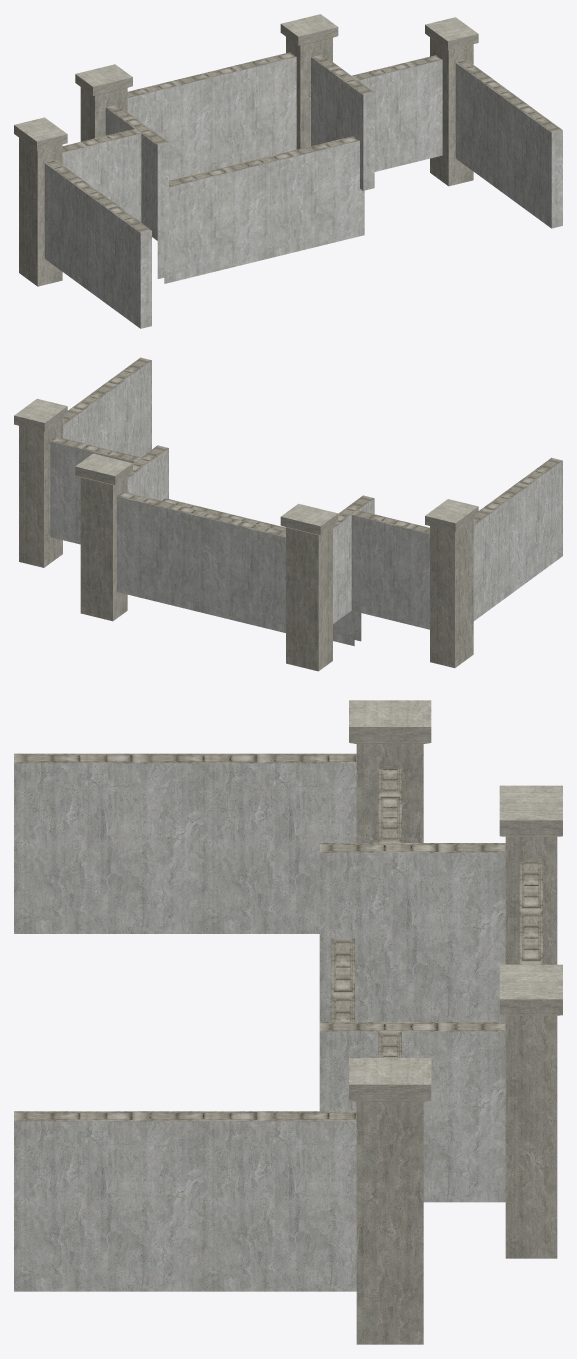
The model's file is poi_corl_corral_half_32x32_s03_l0.fbx.
3 views of the same model, one above another, from view 1: azimuth 30°, elevation 25°; view 2: azimuth 150°, elevation 25°; view 3: azimuth 270°, elevation 25° (orthographic). The views are drawn at different scales.
Parts seen in each view (by area): view 1: mesh_node; view 2: mesh_node; view 3: mesh_node.
Part boxes in pixels (x1=…): mesh_node: x1=14, y1=14, x2=562, y2=328; mesh_node: x1=14, y1=357, x2=562, y2=671; mesh_node: x1=14, y1=700, x2=562, y2=1344.
Size of the model in its own units: 19.35 by 7.05 by 11.67.
